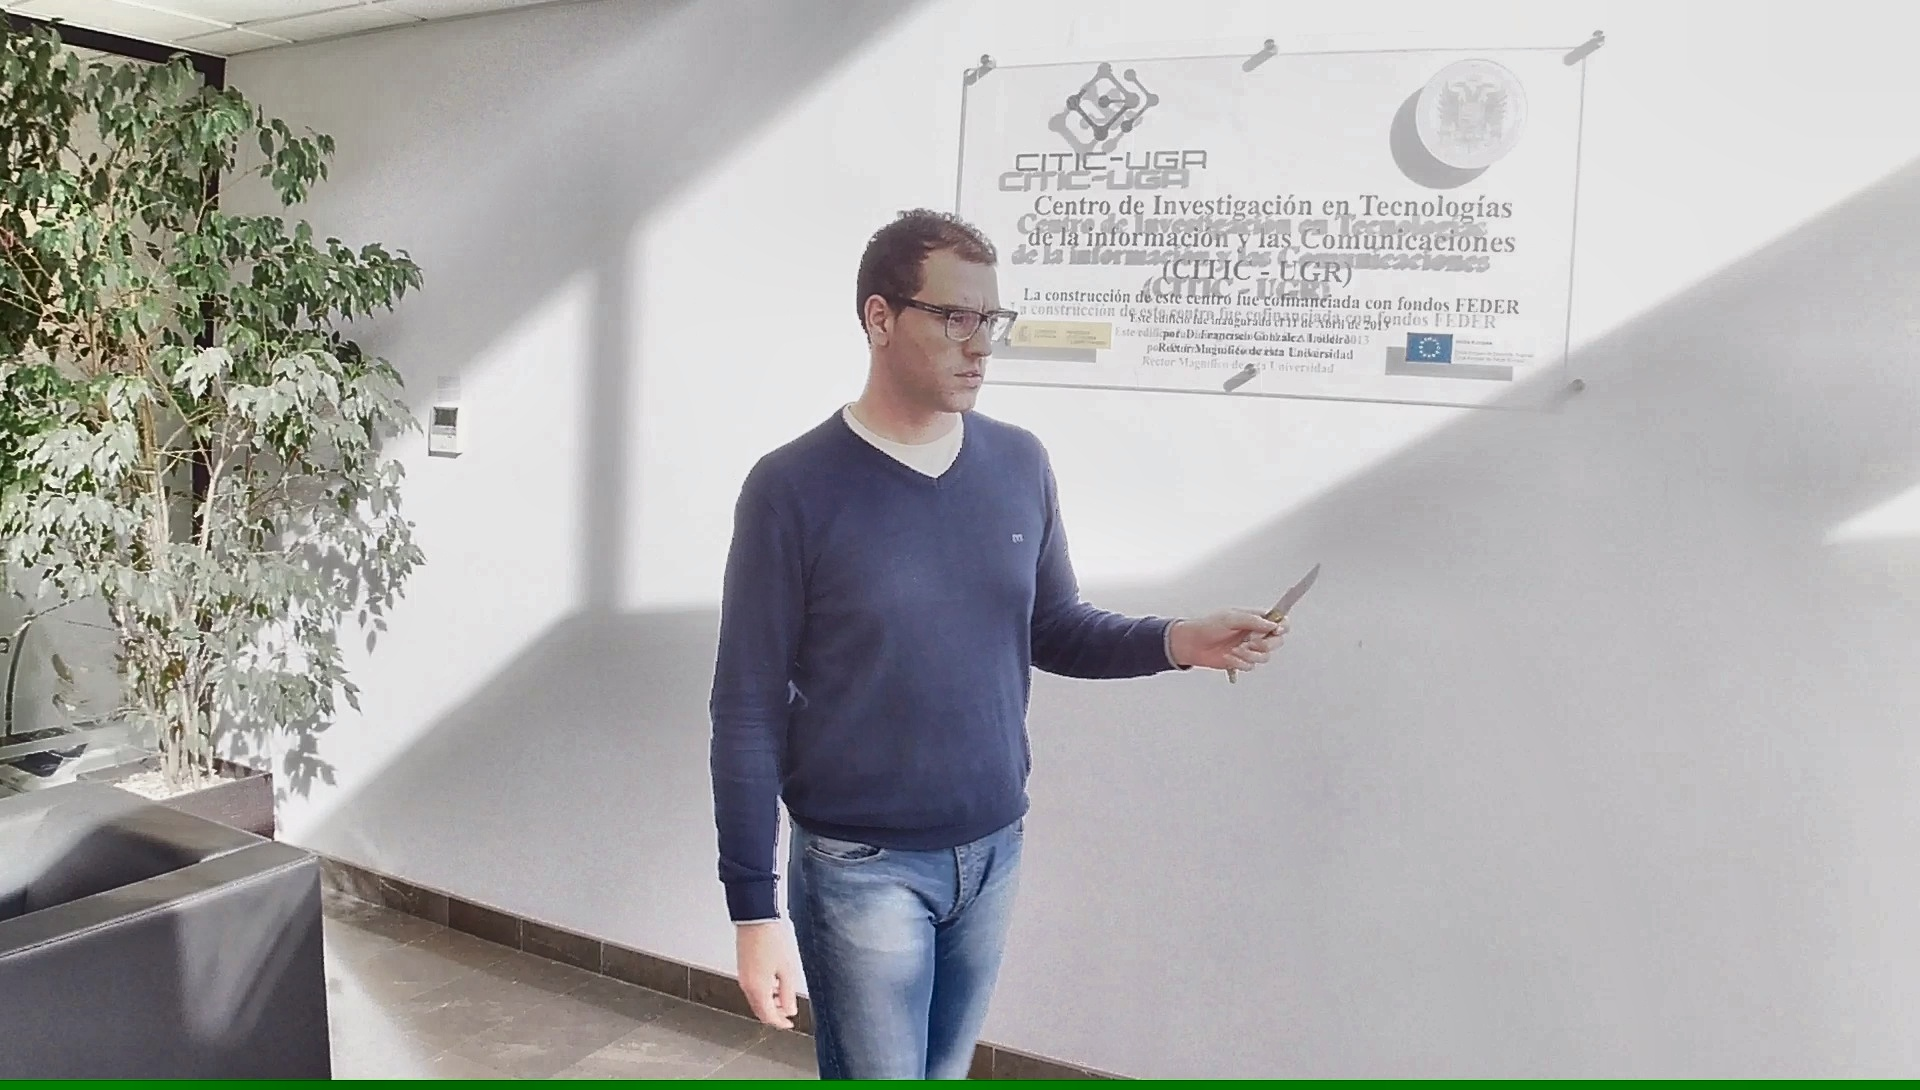knife: (1216, 552, 1328, 695)
